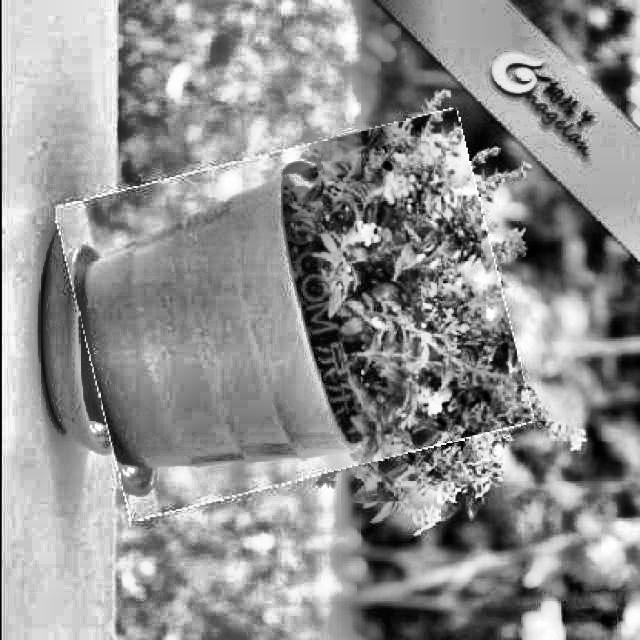plants: (69, 132, 516, 500)
